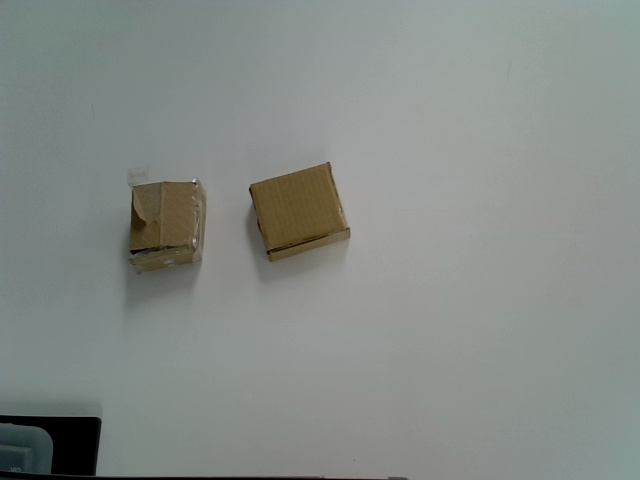defect: (129, 165, 208, 278)
normal: (249, 161, 350, 262)
